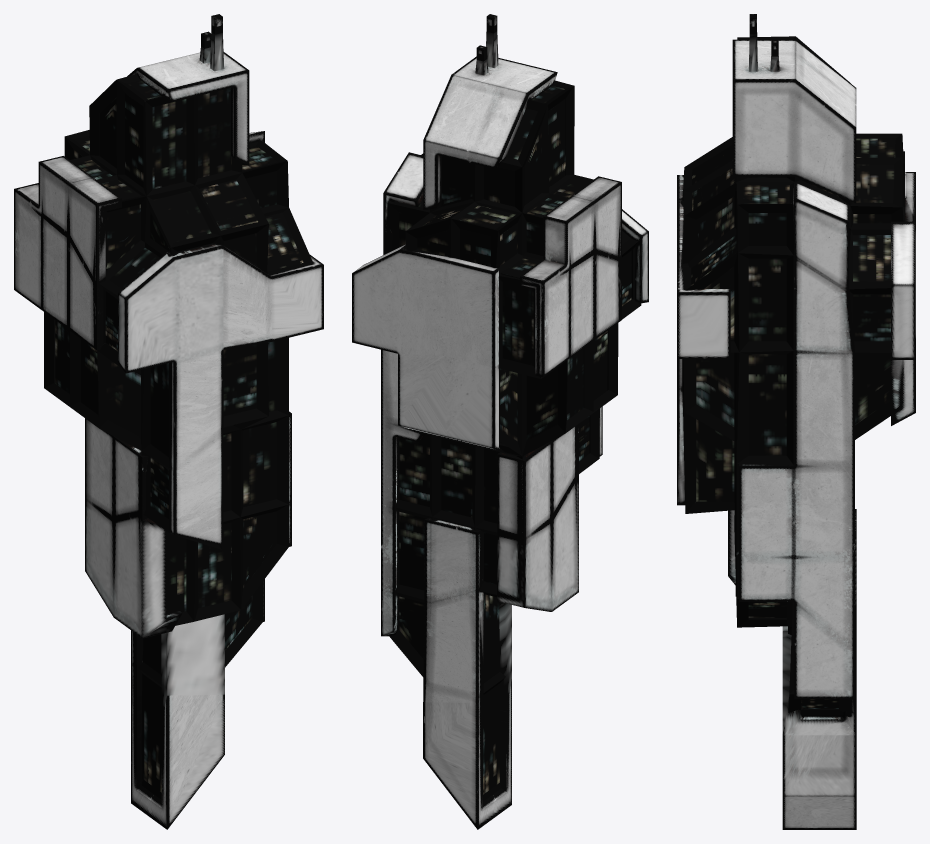
Rendered from TowerMid.fbx.
The picture shows the model from 3 angles, left to right: view 1: azimuth 30°, elevation 25°; view 2: azimuth 150°, elevation 25°; view 3: azimuth 270°, elevation 25°; orthographic projection. The views are drawn at different scales.
Visible parts, largest first — view 1: Cube.006; view 2: Cube.006; view 3: Cube.006.
Boxes of the visible parts, x1,y1,x2,y2 form: Cube.006: (14,14,323,829); Cube.006: (352,14,648,829); Cube.006: (677,14,915,829).
Bounding box in the file's own units: 577 × 2270 × 591.
1 material, 1 textured.
